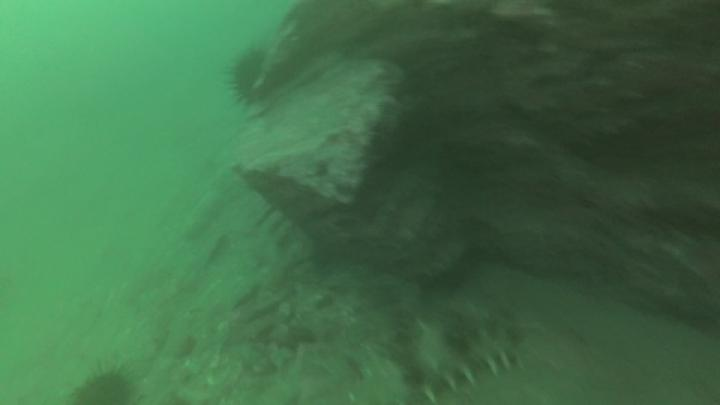echinus: (223, 44, 276, 109), (66, 364, 141, 405)
holothurian: (408, 316, 526, 404), (337, 340, 411, 405)
